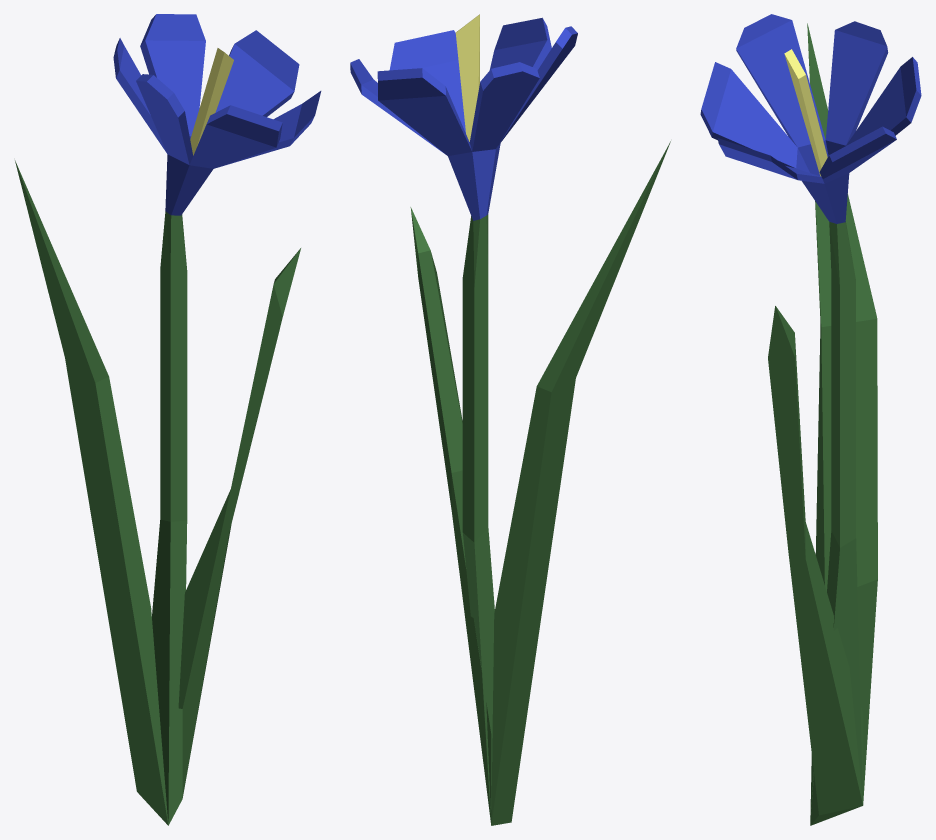
Rendered from flowerKrokus02.gltf.
3 views of the same model, side by side, from view 1: azimuth 30°, elevation 25°; view 2: azimuth 150°, elevation 25°; view 3: azimuth 270°, elevation 25° (orthographic). The views are drawn at different scales.
Visible parts, largest first — view 1: Cylinder; view 2: Cylinder; view 3: Cylinder.
Boxes of the visible parts, box(x1,y1,x2,y2) form: Cylinder: box(15, 14, 321, 825); Cylinder: box(350, 14, 670, 825); Cylinder: box(700, 14, 921, 825).
Size of the model in its own units: 0.1628 by 0.4077 by 0.1024.
1 material, 1 textured.
